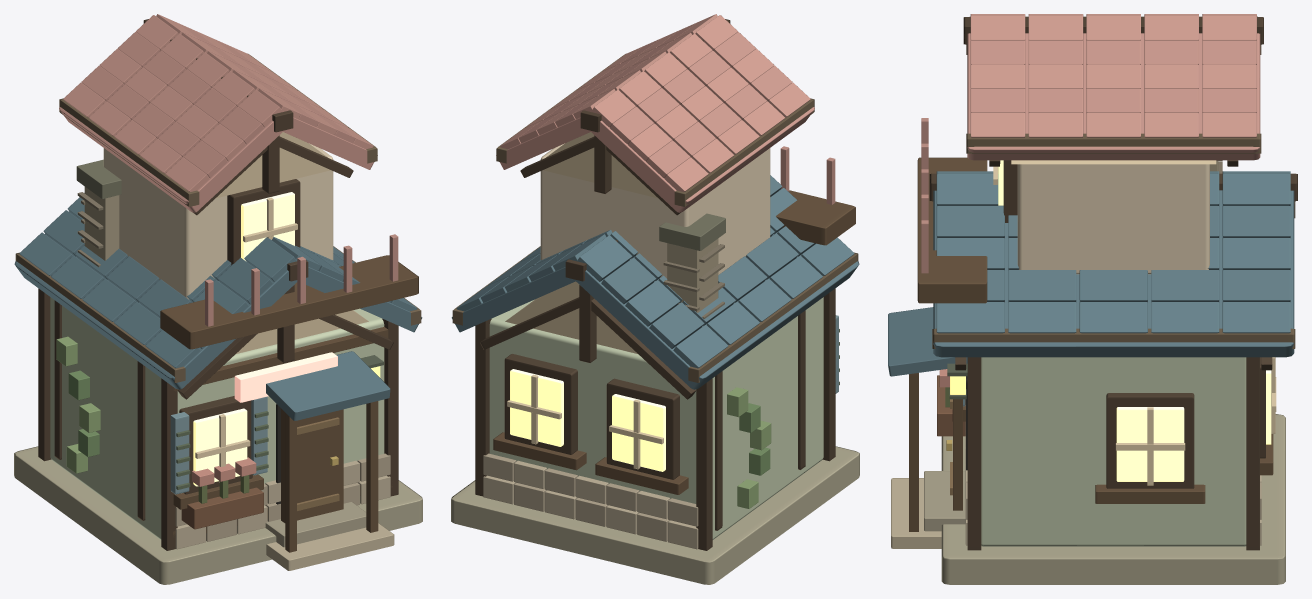
The model's file is workshop-2-2.glb.
3 views of the same model, side by side, from view 1: azimuth 30°, elevation 25°; view 2: azimuth 150°, elevation 25°; view 3: azimuth 270°, elevation 25° (orthographic). The views are drawn at different scales.
Visible parts, largest first — view 1: workshop-2-2, door-hinge; view 2: workshop-2-2; view 3: workshop-2-2, door-hinge.
Boxes of the visible parts, bbox=[...] form: workshop-2-2: bbox=[14, 14, 422, 584]; door-hinge: bbox=[281, 408, 343, 522]; workshop-2-2: bbox=[451, 14, 859, 584]; workshop-2-2: bbox=[888, 14, 1297, 584]; door-hinge: bbox=[946, 399, 962, 510].
Size of the model in its own units: 1.88 by 3 by 2.24.
